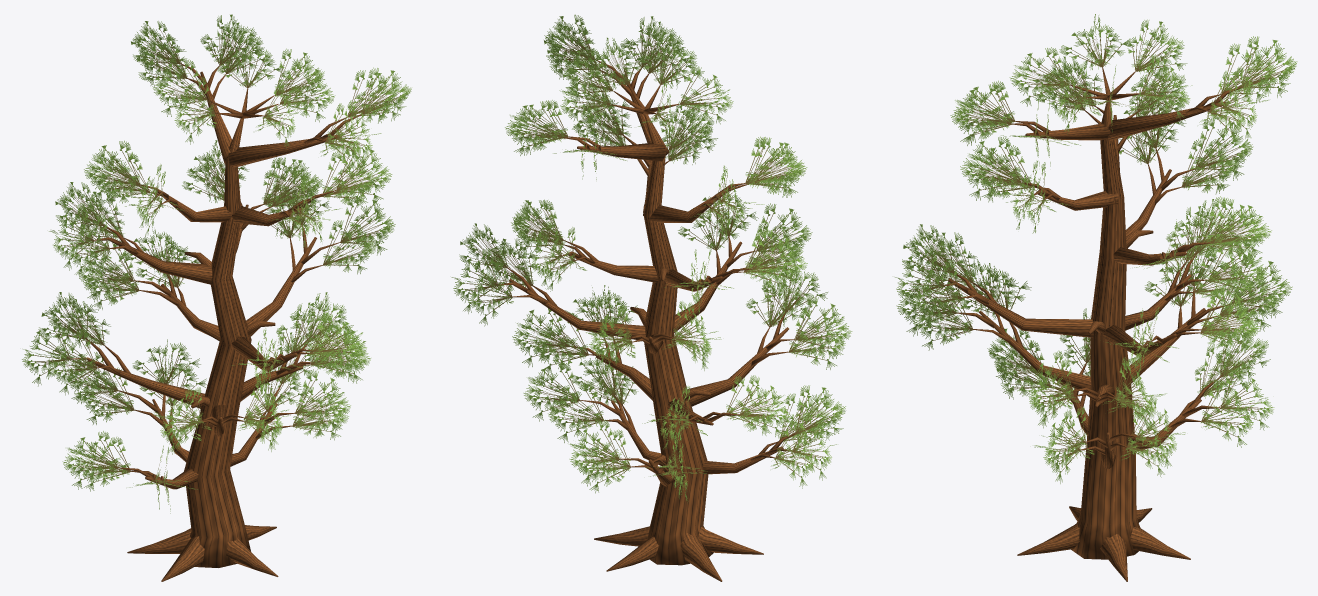
File: WindsweptPine_LOD1.glb
3 renders of one model, left to right at view 1: azimuth 30°, elevation 25°; view 2: azimuth 150°, elevation 25°; view 3: azimuth 270°, elevation 25°, orthographic. The views are drawn at different scales.
Visible parts, largest first — view 1: SM_WindsweptPine_Foliage_LOD1, SM_WindsweptPine_Bark_LOD1; view 2: SM_WindsweptPine_Foliage_LOD1, SM_WindsweptPine_Bark_LOD1; view 3: SM_WindsweptPine_Foliage_LOD1, SM_WindsweptPine_Bark_LOD1.
Part boxes in pixels (bbox=[...]): SM_WindsweptPine_Foliage_LOD1: bbox=[22, 14, 411, 513]; SM_WindsweptPine_Bark_LOD1: bbox=[71, 63, 360, 581]; SM_WindsweptPine_Foliage_LOD1: bbox=[451, 14, 852, 502]; SM_WindsweptPine_Bark_LOD1: bbox=[499, 59, 794, 581]; SM_WindsweptPine_Foliage_LOD1: bbox=[895, 14, 1297, 483]; SM_WindsweptPine_Bark_LOD1: bbox=[943, 67, 1240, 581].
Size of the model in its own units: 7.02 by 9.05 by 6.52.
Materials: 2 (2 with a texture image).
